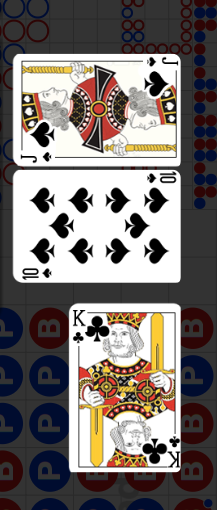10S: (21, 267, 54, 281)
JS: (132, 55, 179, 99), (12, 122, 58, 166)
